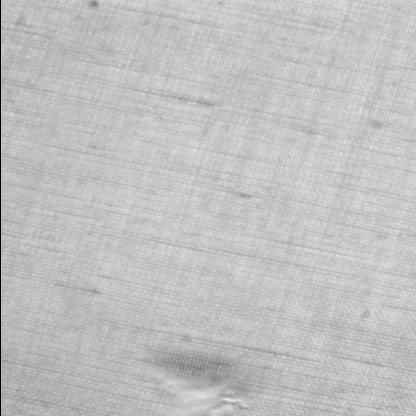objects: (152, 362, 253, 416)
